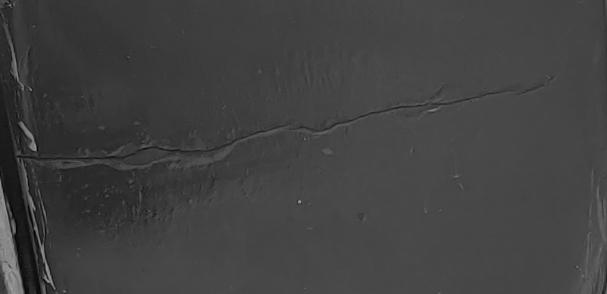crack: (0, 1, 607, 294)
